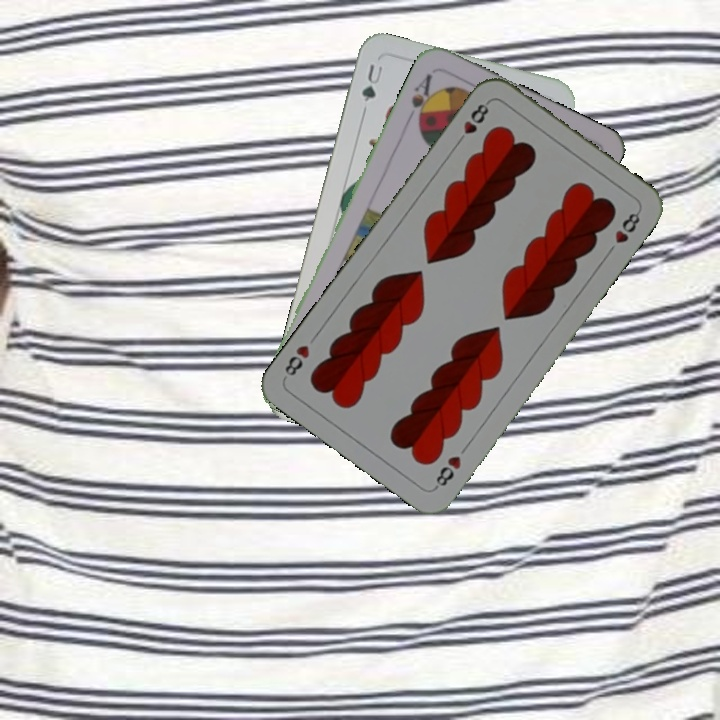GU: (357, 60, 386, 105)
H8: (452, 97, 493, 148), (431, 451, 464, 492)
SA: (403, 69, 438, 128)
